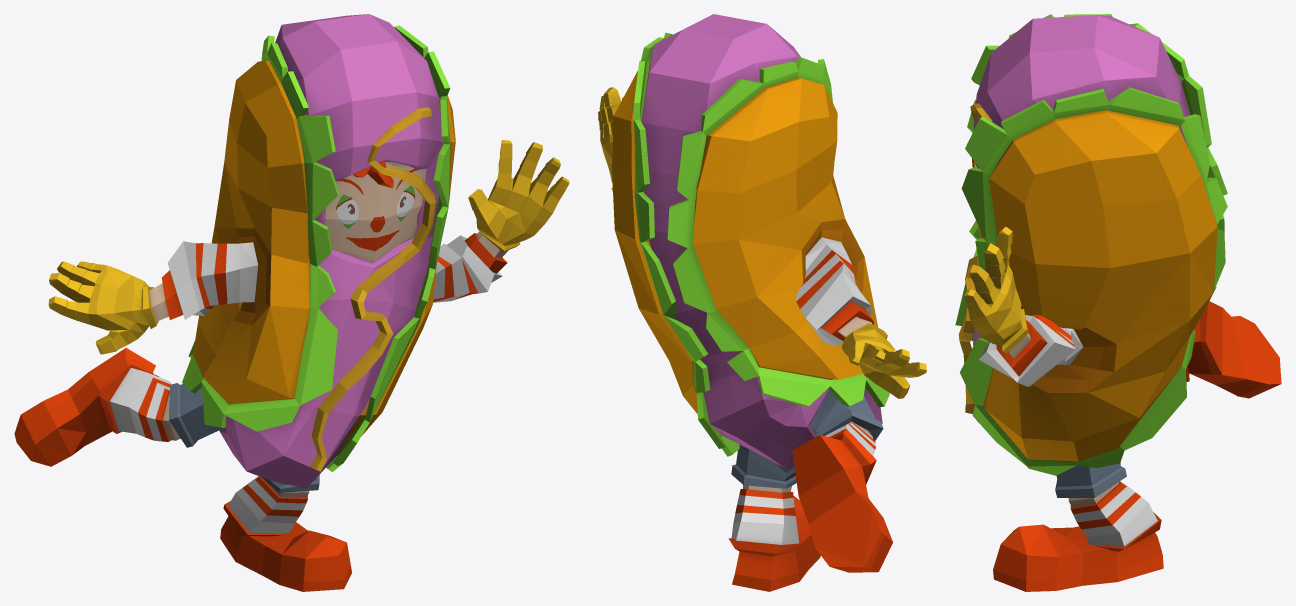
File: SK_Lowpoly_42.gltf
The picture shows the model from 3 angles, left to right: view 1: azimuth 30°, elevation 25°; view 2: azimuth 150°, elevation 25°; view 3: azimuth 270°, elevation 25°; orthographic projection. The views are drawn at different scales.
Visible parts, largest first — view 1: SK_Lowpoly_Male_042_pose_16_StaticMeshComponent0; view 2: SK_Lowpoly_Male_042_pose_16_StaticMeshComponent0; view 3: SK_Lowpoly_Male_042_pose_16_StaticMeshComponent0.
Part boxes in pixels (x1,y1,x2,y2): SK_Lowpoly_Male_042_pose_16_StaticMeshComponent0: (14,14,569,591); SK_Lowpoly_Male_042_pose_16_StaticMeshComponent0: (598,14,926,591); SK_Lowpoly_Male_042_pose_16_StaticMeshComponent0: (955,14,1281,591).
Size of the model in its own units: 1.32 by 1.57 by 0.8056.
1 material, 1 textured.
